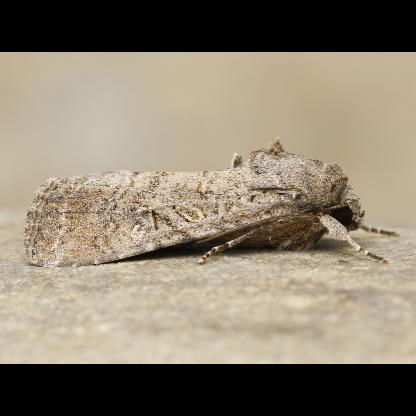Fall Armyworm Moth: (21, 134, 402, 272)
